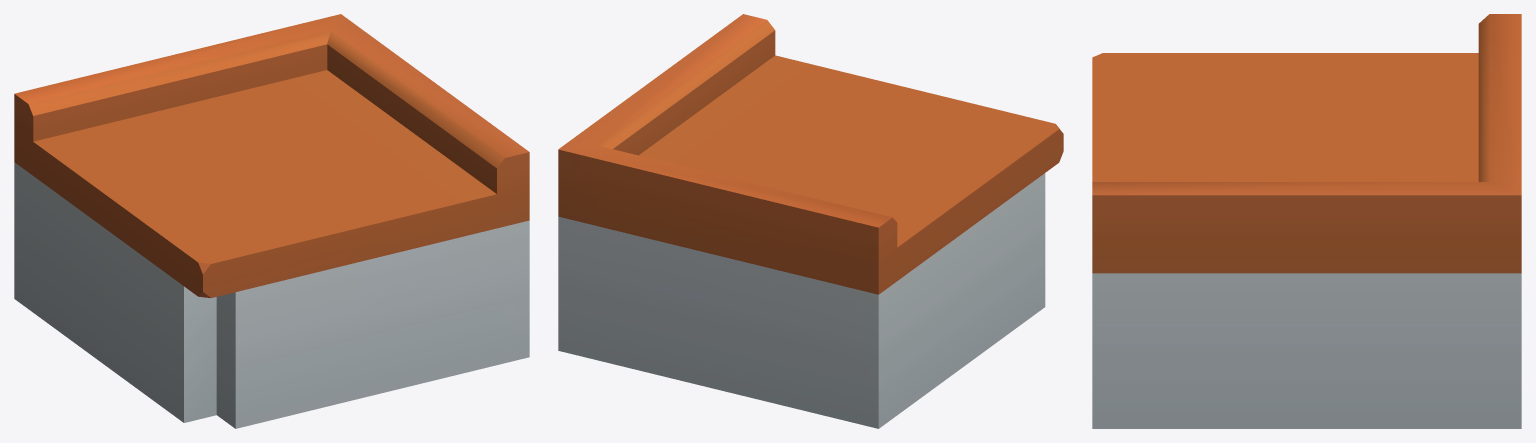
The model's file is kkr.kitchencounter_innercorner_backsplash.glb.
3 renders of one model, left to right at view 1: azimuth 30°, elevation 25°; view 2: azimuth 150°, elevation 25°; view 3: azimuth 270°, elevation 25°, orthographic. The views are drawn at different scales.
Visible parts, largest first — view 1: kitchencounter_innercorner_backsplash; view 2: kitchencounter_innercorner_backsplash; view 3: kitchencounter_innercorner_backsplash.
Boxes of the visible parts, x1,y1,x2,y2 form: kitchencounter_innercorner_backsplash: (14, 14, 529, 428); kitchencounter_innercorner_backsplash: (558, 14, 1063, 428); kitchencounter_innercorner_backsplash: (1092, 14, 1521, 428).
Size of the model in its own units: 1.49 by 0.8941 by 1.49.
1 material, 1 textured.
